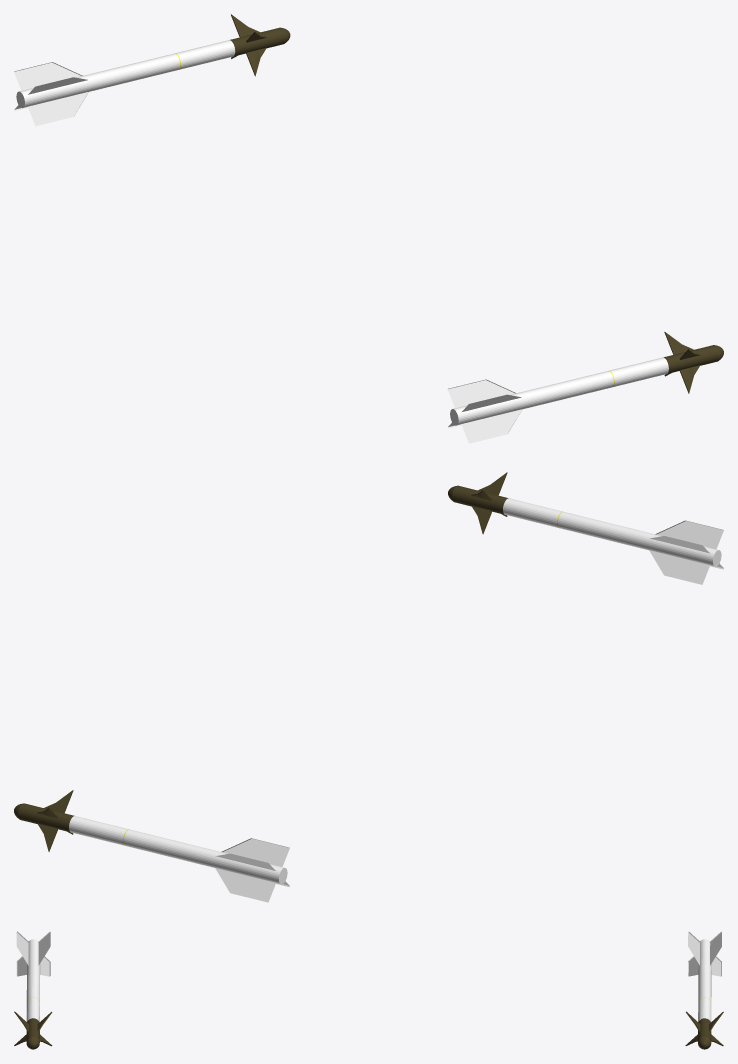
File: aim9fa18e291.glb
3 views of the same model, one above another, from view 1: azimuth 30°, elevation 25°; view 2: azimuth 150°, elevation 25°; view 3: azimuth 270°, elevation 25° (orthographic). The views are drawn at different scales.
Parts seen in each view (by area): view 1: 円柱.005, 円柱.002; view 2: 円柱.005, 円柱.002; view 3: 円柱.005, 円柱.002.
Boxes of the visible parts, box(x1,y1,x2,y2) form: 円柱.005: box(447, 332, 723, 443); 円柱.002: box(14, 14, 290, 126); 円柱.005: box(448, 472, 723, 584); 円柱.002: box(14, 790, 289, 902); 円柱.005: box(14, 931, 52, 1049); 円柱.002: box(685, 931, 723, 1049).
Size of the model in its own units: 3.38 by 0.543 by 10.
Materials: 2 (2 with a texture image).
